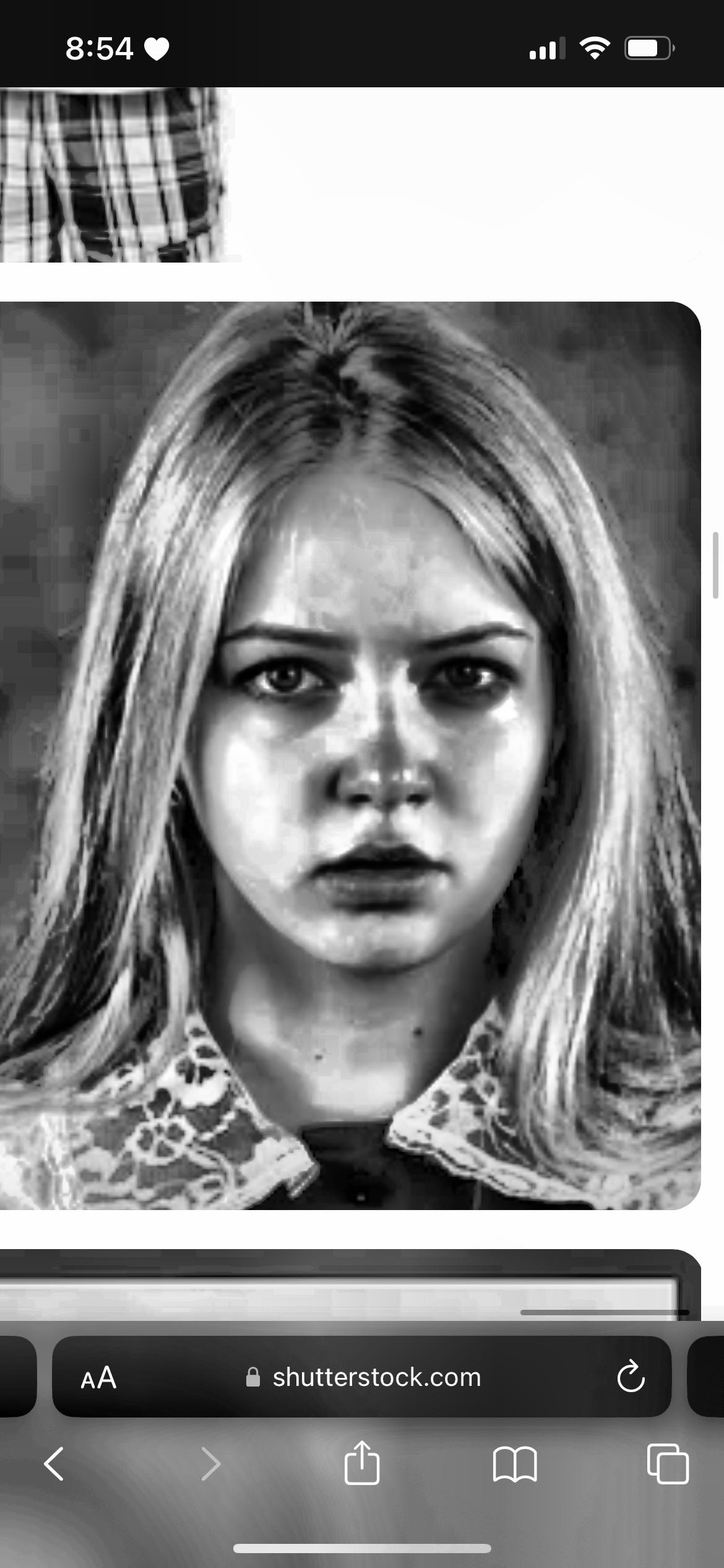sad: (112, 421, 539, 1006)
